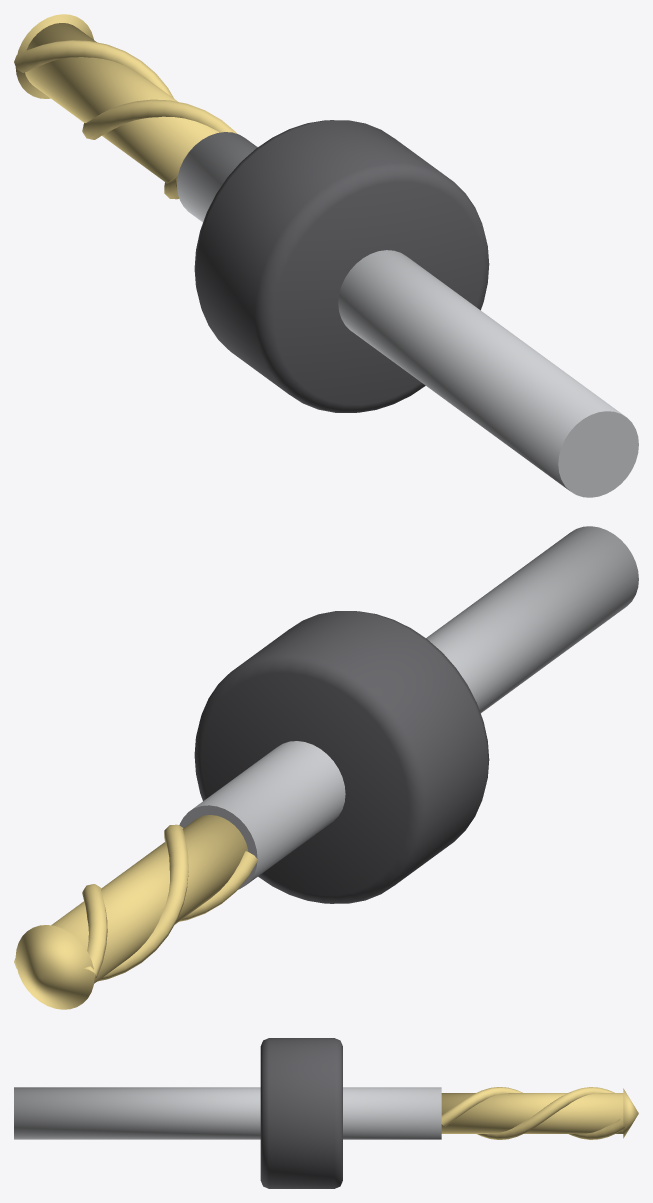
Rendered from drill18_3p175.glb.
3 renders of one model, top to bottom at view 1: azimuth 30°, elevation 25°; view 2: azimuth 150°, elevation 25°; view 3: azimuth 270°, elevation 25°, orthographic. The views are drawn at different scales.
Visible parts, largest first — view 1: Cylinder.002, Cylinder.001, Cylinder, flute.001, flute, Cone; view 2: Cylinder.002, Cylinder.001, Cylinder, Cone, flute, flute.001; view 3: Cylinder.001, Cylinder.002, Cylinder, flute.001, flute, Cone.
Boxes of the visible parts, x1,y1,x2,y2 form: Cylinder.002: [194, 120, 489, 412]; Cylinder.001: [177, 132, 638, 497]; Cylinder: [25, 23, 219, 186]; flute.001: [14, 40, 179, 199]; flute: [82, 99, 237, 139]; Cone: [15, 14, 93, 98]; Cylinder.002: [194, 611, 489, 903]; Cylinder.001: [179, 526, 638, 889]; Cylinder: [51, 815, 248, 983]; Cone: [15, 925, 94, 1009]; flute: [14, 824, 188, 981]; flute.001: [82, 851, 257, 978]; Cylinder.001: [14, 1087, 441, 1139]; Cylinder.002: [260, 1038, 342, 1188]; Cylinder: [441, 1093, 623, 1133]; flute.001: [477, 1087, 614, 1139]; flute: [441, 1087, 626, 1139]; Cone: [623, 1088, 638, 1138].
Size of the model in its own units: 0.00917 by 0.00917 by 0.038.
